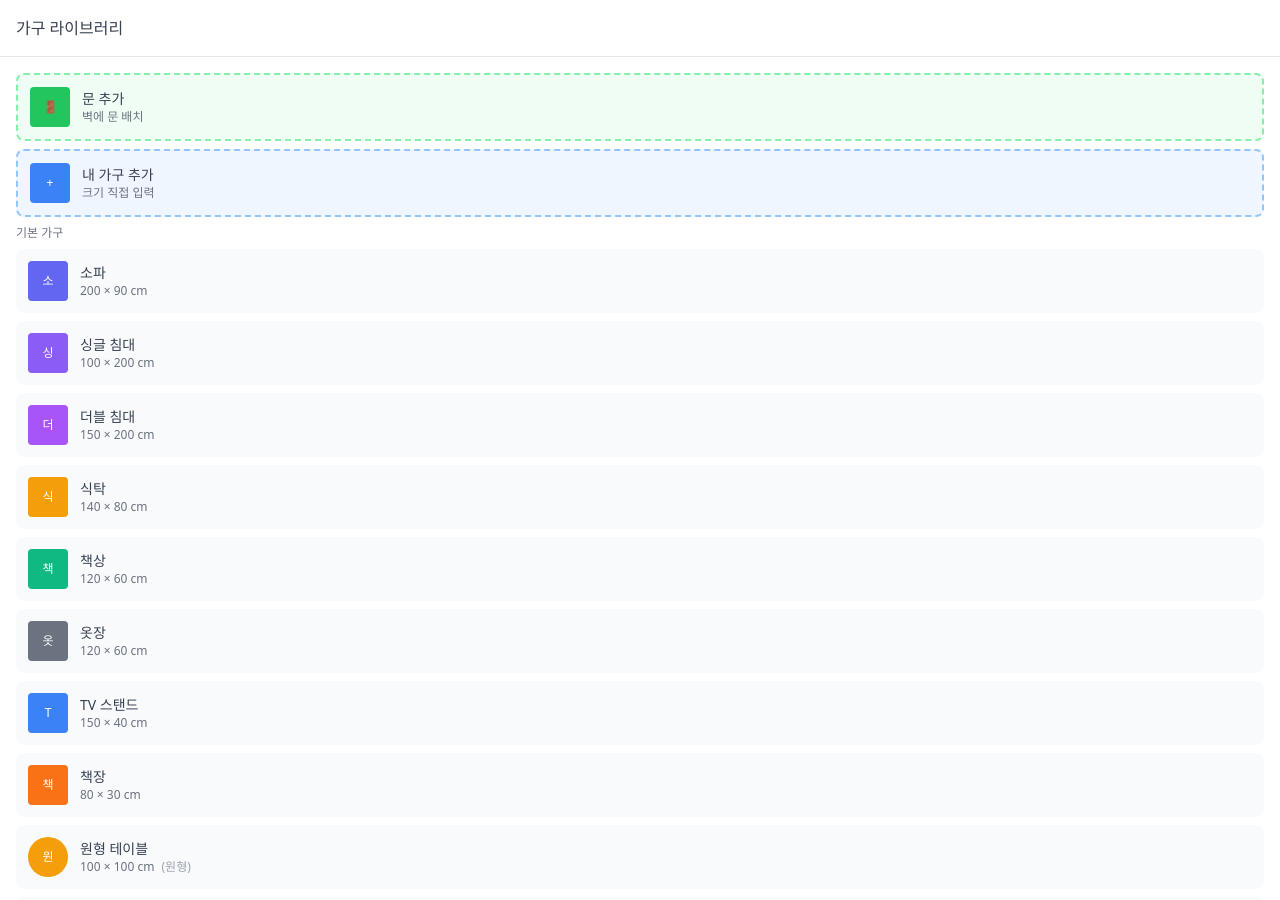
Test case: FurnitureLibrary 컴포넌트 › "내 가구 추가" 클릭 시 모달이 열린다
This screenshot has width=1280, height=900.
Click the element showing "+ 내 가구 추가 크기 직접 입력".
click(640, 183)  # box [16,149,1264,217]
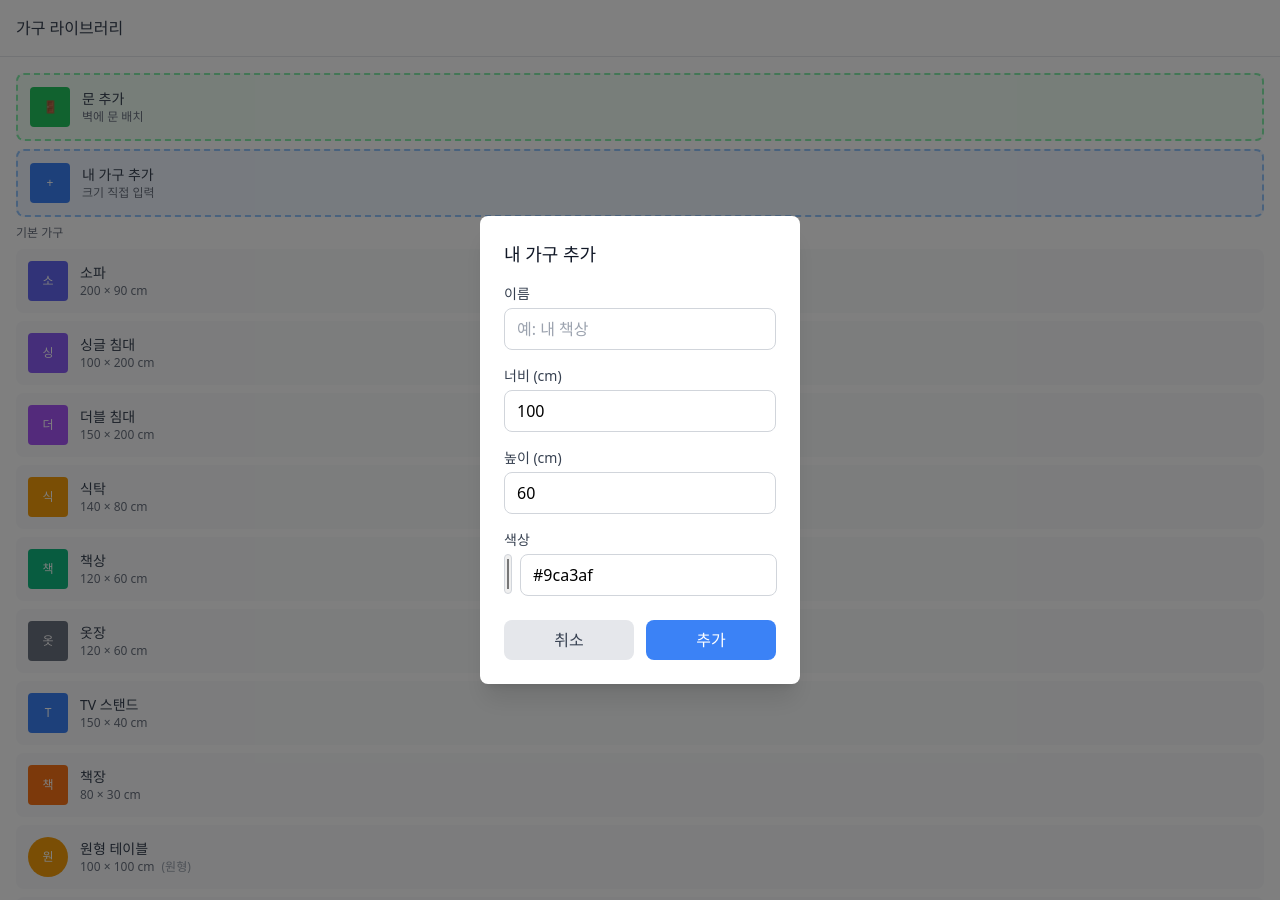
Expected: the element with class "fixed" is shown
Expected: the text "이름" is shown, [504,284,530,303]
Expected: the text "너비 (cm)" is shown, [504,366,562,385]
